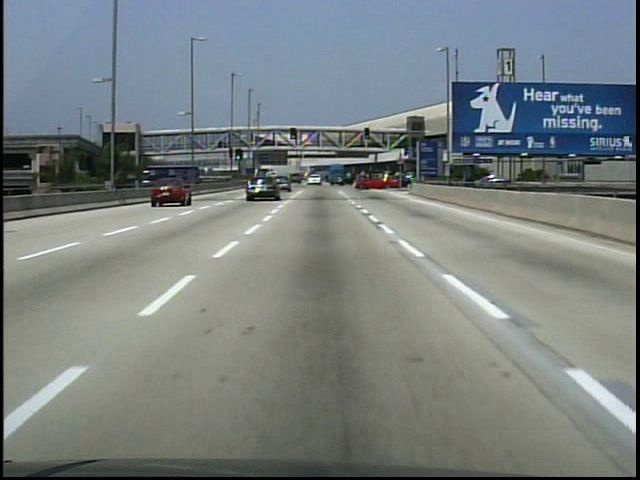person: (217, 139, 222, 150)
